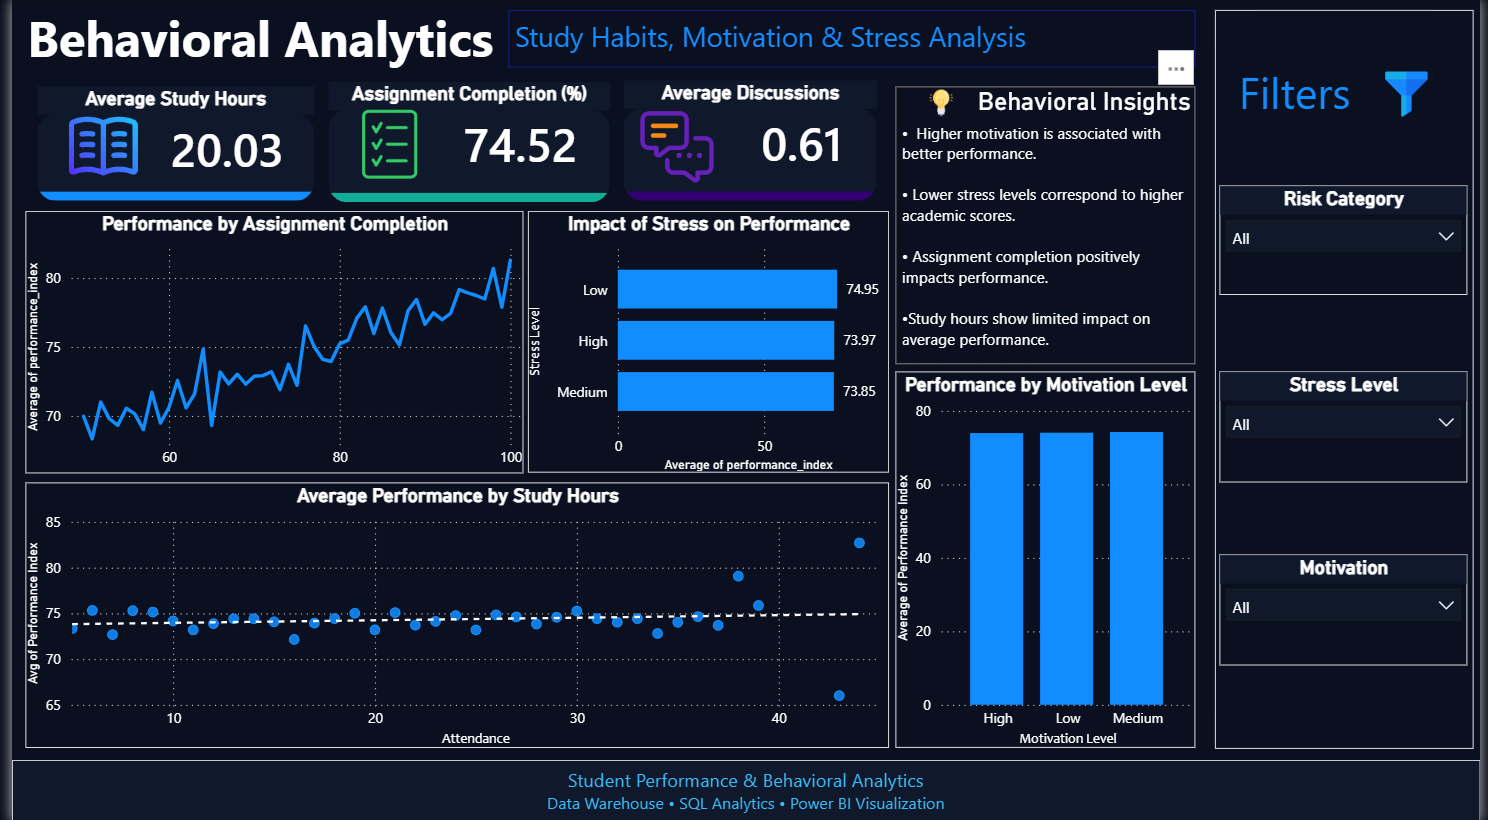

The dashboard page shown, as its layout file describes it:
{"tool":"powerbi","page":{"name":"Behavioral Analysis","canvas":[1280,720],"ordinal":1},"visuals":[{"type":"shape","box":[1048.8,10,225,643.8],"z":0},{"type":"lineChart","title":"Performance by Assignment Completion","fields":{"Category":["educational_bi_framework dim_behavior.assignment_completion"],"Y":["Avg(educational_bi_framework fact_performance.performance_index)"]},"box":[11.3,185.3,434,228.7],"z":1000},{"type":"clusteredBarChart","title":"Impact of Stress on Performance","fields":{"Y":["Avg(educational_bi_framework fact_performance.performance_index)"],"Category":["educational_bi_framework dim_behavior.stress_level"]},"box":[450,186,314.7,228],"z":2000},{"type":"clusteredColumnChart","title":"Performance by Motivation Level","fields":{"Category":["educational_bi_framework dim_behavior.motivation"],"Y":["Avg(educational_bi_framework fact_performance.performance_index)"]},"box":[770.1,325.6,261.5,328.2],"z":3000},{"type":"scatterChart","title":"Average Performance by Study Hours","fields":{"X":["educational_bi_framework dim_behavior.study_hours"],"Y":["educational_bi_framework fact_performance.performance_index"]},"box":[11.4,422.9,752.9,231.4],"z":4000},{"type":"slicer","title":"Risk Category","fields":{"Values":["educational_bi_framework fact_performance.risk_category"]},"box":[1052.6,163.4,215.7,95.4],"z":5000},{"type":"slicer","title":"Motivation","fields":{"Values":["educational_bi_framework dim_behavior.motivation"]},"box":[1052.6,485.1,215.7,96.8],"z":6000},{"type":"slicer","title":"Stress Level","fields":{"Values":["educational_bi_framework dim_behavior.stress_level"]},"box":[1052.6,325.6,215.7,96.8],"z":7000},{"type":"textbox","box":[0,0,432.8,73.2],"z":8000},{"type":"textbox","box":[432.8,10.5,598.8,49.7],"z":9000},{"type":"cardVisual","title":"Assignment Completion (%)","fields":{"Data":["Avg(educational_bi_framework dim_behavior.assignment_completion)"]},"box":[275.6,72.7,245.3,104.5],"z":10000},{"type":"cardVisual","title":"Average Discussions","fields":{"Data":["Avg(educational_bi_framework dim_behavior.discussions)"]},"box":[533.1,72.3,220.8,104.6],"z":11000},{"type":"textbox","box":[1063.8,51.2,216.2,62.5],"z":12000},{"type":"image","box":[1157.2,64.1,116.4,39.2],"z":13000},{"type":"textbox","box":[0,663.8,1280,56.2],"z":14000},{"type":"cardVisual","title":"Average Study Hours","fields":{"Data":["Avg(educational_bi_framework dim_behavior.study_hours)"]},"box":[22.5,77.5,241.2,100],"z":15000},{"type":"textbox","title":"Behavioral Insights","box":[770.1,77.1,261.5,241.9],"z":16000},{"type":"image","box":[37.5,90,83.1,74.4],"z":17000},{"type":"image","box":[288.1,93.8,81.9,66.9],"z":18000},{"type":"image","box":[541.9,95.6,76.2,68.8],"z":19000},{"type":"image","box":[777.7,80,63.8,23.1],"z":20000}]}

Visuals, with their boxes in screenshot pixels (x1, y1, x2, y2), scaled from the page's 1280x720 canvas onto the 1488x820 screenshot:
shape: pyautogui.locateOnScreen(1219, 11, 1481, 745)
"Performance by Assignment Completion" lineChart: pyautogui.locateOnScreen(13, 211, 518, 472)
"Impact of Stress on Performance" clusteredBarChart: pyautogui.locateOnScreen(523, 212, 889, 472)
"Performance by Motivation Level" clusteredColumnChart: pyautogui.locateOnScreen(895, 371, 1199, 745)
"Average Performance by Study Hours" scatterChart: pyautogui.locateOnScreen(13, 482, 888, 745)
"Risk Category" slicer: pyautogui.locateOnScreen(1224, 186, 1474, 295)
"Motivation" slicer: pyautogui.locateOnScreen(1224, 552, 1474, 663)
"Stress Level" slicer: pyautogui.locateOnScreen(1224, 371, 1474, 481)
textbox: pyautogui.locateOnScreen(0, 0, 503, 83)
textbox: pyautogui.locateOnScreen(503, 12, 1199, 69)
"Assignment Completion (%)" cardVisual: pyautogui.locateOnScreen(320, 83, 606, 202)
"Average Discussions" cardVisual: pyautogui.locateOnScreen(620, 82, 876, 201)
textbox: pyautogui.locateOnScreen(1237, 58, 1487, 129)
image: pyautogui.locateOnScreen(1345, 73, 1481, 118)
textbox: pyautogui.locateOnScreen(0, 756, 1487, 819)
"Average Study Hours" cardVisual: pyautogui.locateOnScreen(26, 88, 307, 202)
"Behavioral Insights" textbox: pyautogui.locateOnScreen(895, 88, 1199, 363)
image: pyautogui.locateOnScreen(44, 102, 140, 187)
image: pyautogui.locateOnScreen(335, 107, 430, 183)
image: pyautogui.locateOnScreen(630, 109, 719, 187)
image: pyautogui.locateOnScreen(904, 91, 978, 117)
